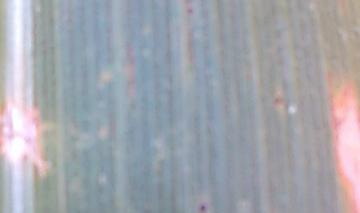tarspot: (199, 203, 208, 212), (186, 5, 194, 15)
